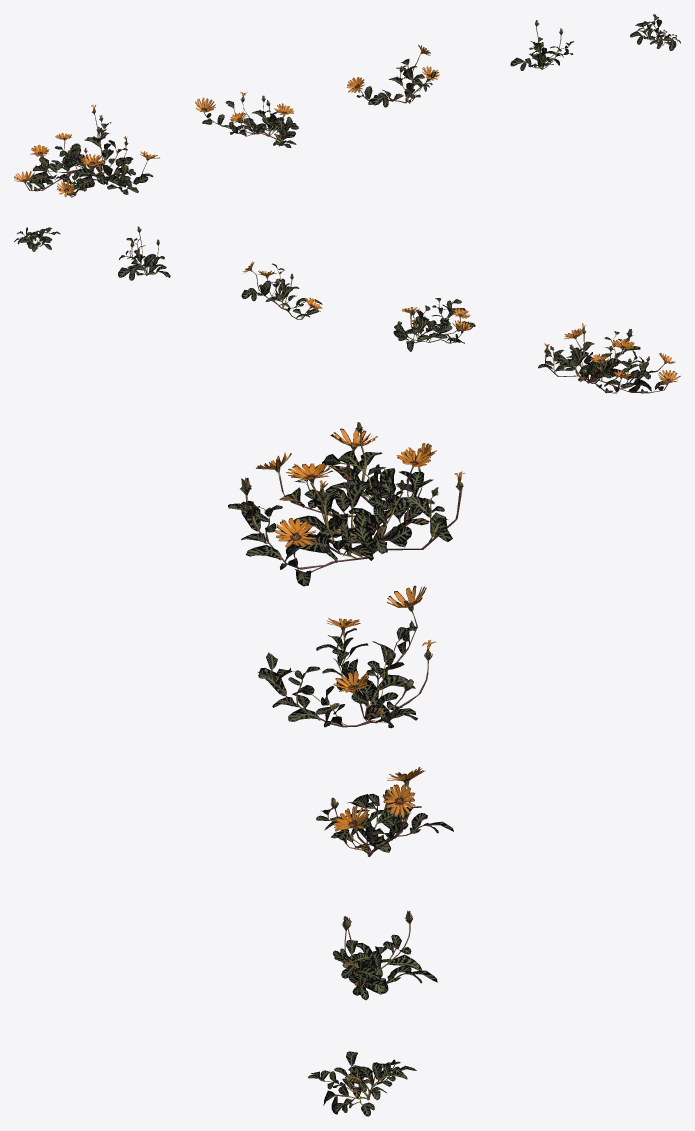
The model's file is flower_ursinia.glb.
3 renders of one model, top to bottom at view 1: azimuth 30°, elevation 25°; view 2: azimuth 150°, elevation 25°; view 3: azimuth 270°, elevation 25°, orthographic. The views are drawn at different scales.
Visible parts, largest first — view 1: flower_ursinia_a, flower_ursinia_b, flower_ursinia_c, flower_ursinia_d, flower_ursinia_e; view 2: flower_ursinia_a, flower_ursinia_b, flower_ursinia_c, flower_ursinia_d, flower_ursinia_e; view 3: flower_ursinia_a, flower_ursinia_b, flower_ursinia_c, flower_ursinia_d, flower_ursinia_e.
Part boxes in pixels (<box>): flower_ursinia_a: <box>14,104,159,197</box>; flower_ursinia_b: <box>195,92,298,147</box>; flower_ursinia_c: <box>347,45,439,107</box>; flower_ursinia_d: <box>510,20,574,70</box>; flower_ursinia_e: <box>630,14,680,50</box>; flower_ursinia_a: <box>538,323,680,393</box>; flower_ursinia_b: <box>393,298,475,351</box>; flower_ursinia_c: <box>241,261,322,319</box>; flower_ursinia_d: <box>118,226,170,280</box>; flower_ursinia_e: <box>14,227,60,251</box>; flower_ursinia_a: <box>228,422,465,586</box>; flower_ursinia_b: <box>258,585,436,728</box>; flower_ursinia_c: <box>316,767,453,856</box>; flower_ursinia_d: <box>333,910,437,1000</box>; flower_ursinia_e: <box>308,1051,416,1116</box>.
Bounding box in the file's own units: 2.19 × 0.1718 × 0.3432.
1 material, 1 textured.
